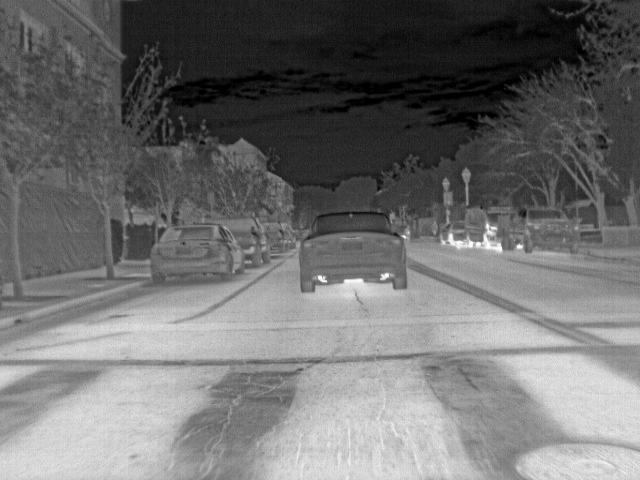car: (298, 210, 407, 292), (151, 223, 246, 285), (497, 204, 579, 255), (463, 204, 499, 250), (243, 216, 270, 267), (441, 220, 464, 246), (267, 221, 284, 253), (281, 225, 296, 251)
person: (431, 220, 439, 234)
